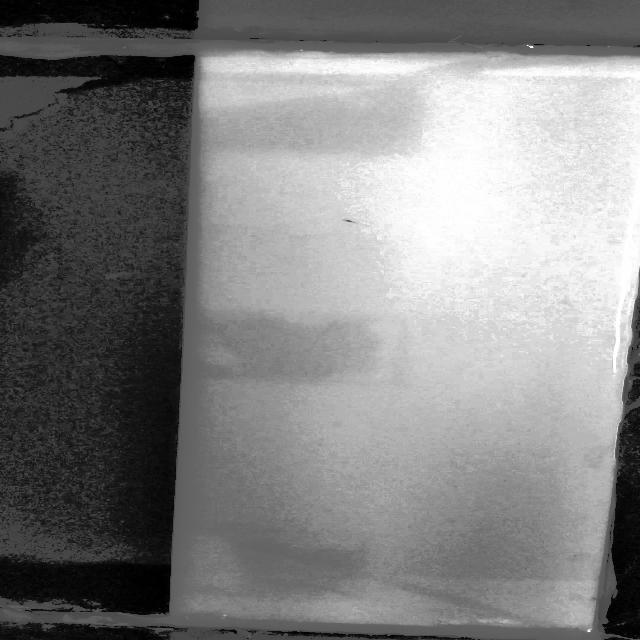shrimp: (344, 217, 366, 225)
